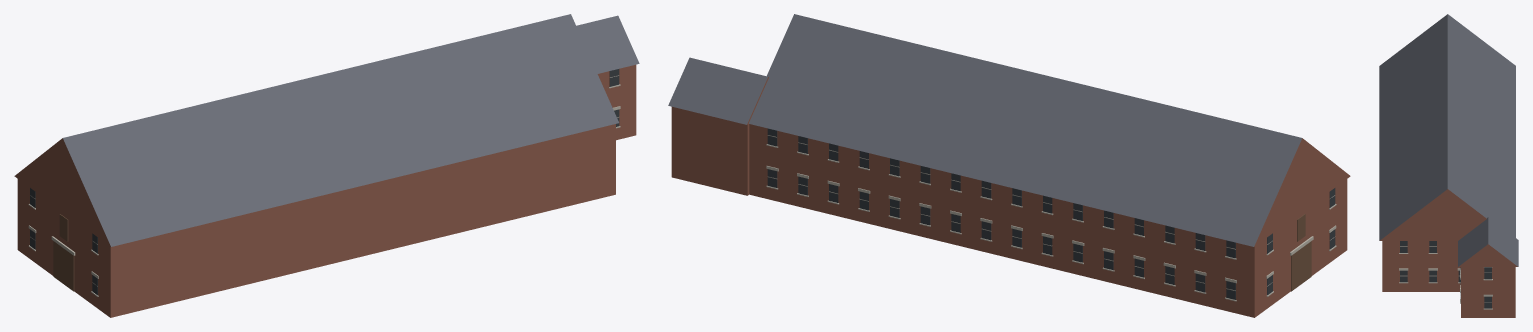
Rendered from livery_2123_indiana__draft_1904.glb.
The picture shows the model from 3 angles, left to right: view 1: azimuth 30°, elevation 25°; view 2: azimuth 150°, elevation 25°; view 3: azimuth 270°, elevation 25°; orthographic projection. The views are drawn at different scales.
Visible parts, largest first — view 1: livery_2123_indiana__draft_1904; view 2: livery_2123_indiana__draft_1904; view 3: livery_2123_indiana__draft_1904.
Boxes of the visible parts, box(x1,y1,x2,y2) form: livery_2123_indiana__draft_1904: box(14, 14, 639, 317); livery_2123_indiana__draft_1904: box(668, 14, 1350, 317); livery_2123_indiana__draft_1904: box(1379, 14, 1518, 317).
Size of the model in its own units: 49.99 by 11.97 by 14.6.
